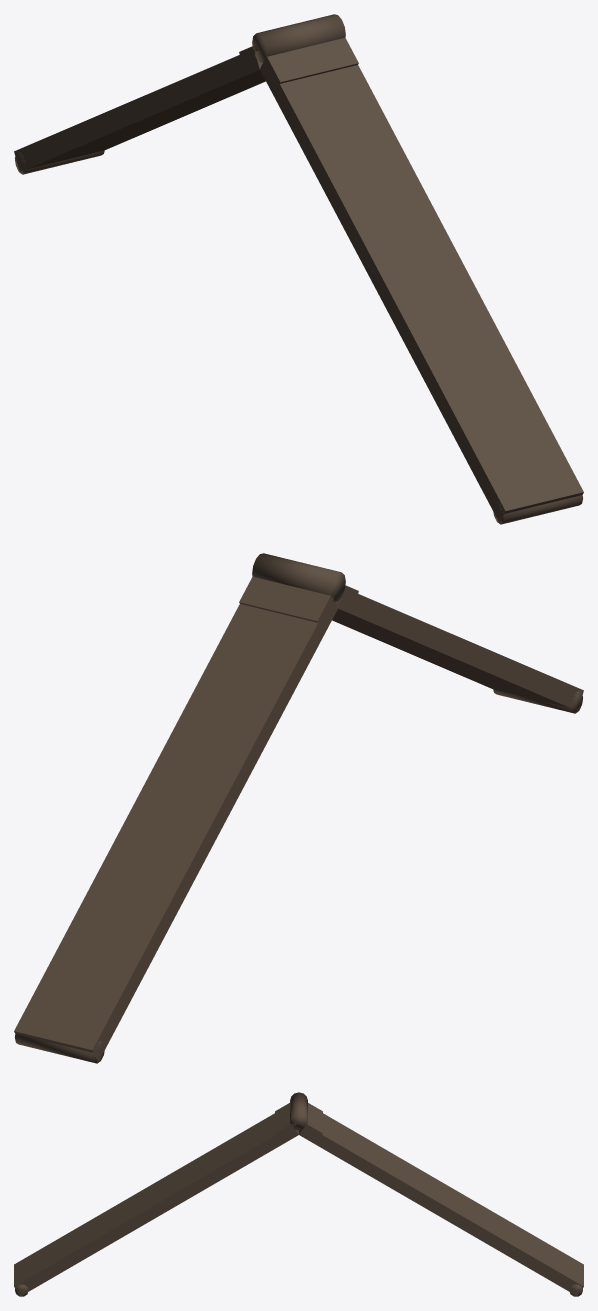
Rendered from kit_timber_thatch_w10.glb.
The picture shows the model from 3 angles, top to bottom: view 1: azimuth 30°, elevation 25°; view 2: azimuth 150°, elevation 25°; view 3: azimuth 270°, elevation 25°; orthographic projection. The views are drawn at different scales.
Parts seen in each view (by area): view 1: kit_timber_thatch_w10; view 2: kit_timber_thatch_w10; view 3: kit_timber_thatch_w10.
Part boxes in pixels (x1,y1,x2,y2): kit_timber_thatch_w10: (14,14,583,524); kit_timber_thatch_w10: (14,553,583,1063); kit_timber_thatch_w10: (14,1092,583,1296).
Size of the model in its own units: 1 by 3.83 by 10.86.
